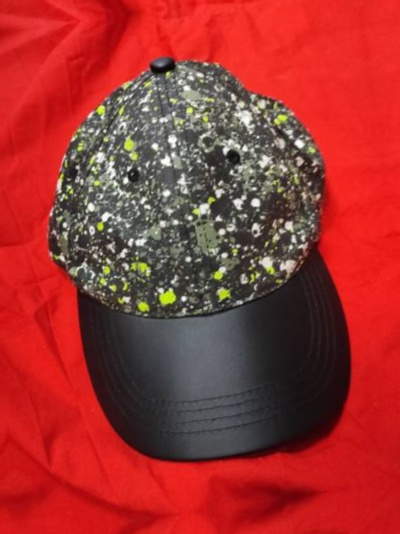Hat: (2, 21, 388, 511), (75, 501, 400, 534)
